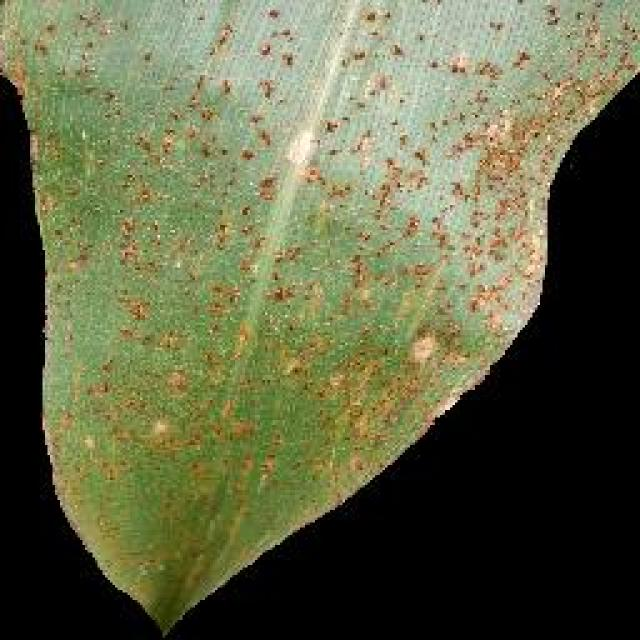Corn___Common_rust: (30, 0, 632, 640)
